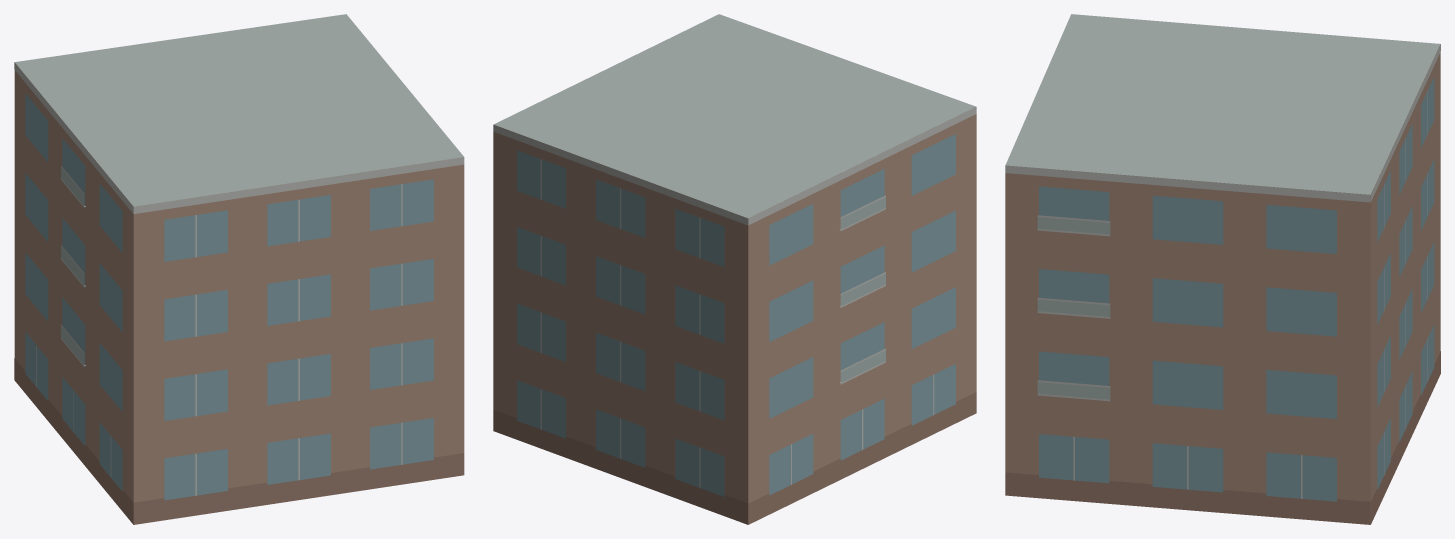
Rendered from survey-upis-32900394.glb.
3 views of the same model, side by side, from view 1: azimuth 30°, elevation 25°; view 2: azimuth 150°, elevation 25°; view 3: azimuth 270°, elevation 25° (orthographic). The views are drawn at different scales.
Visible parts, largest first — view 1: survey-upis-32900394.tmp; view 2: survey-upis-32900394.tmp; view 3: survey-upis-32900394.tmp.
Boxes of the visible parts, <box> form: survey-upis-32900394.tmp: <box>14,14,464,524</box>; survey-upis-32900394.tmp: <box>493,14,976,524</box>; survey-upis-32900394.tmp: <box>1005,14,1440,524</box>.
Size of the model in its own units: 12.35 by 10.5 by 12.56.
